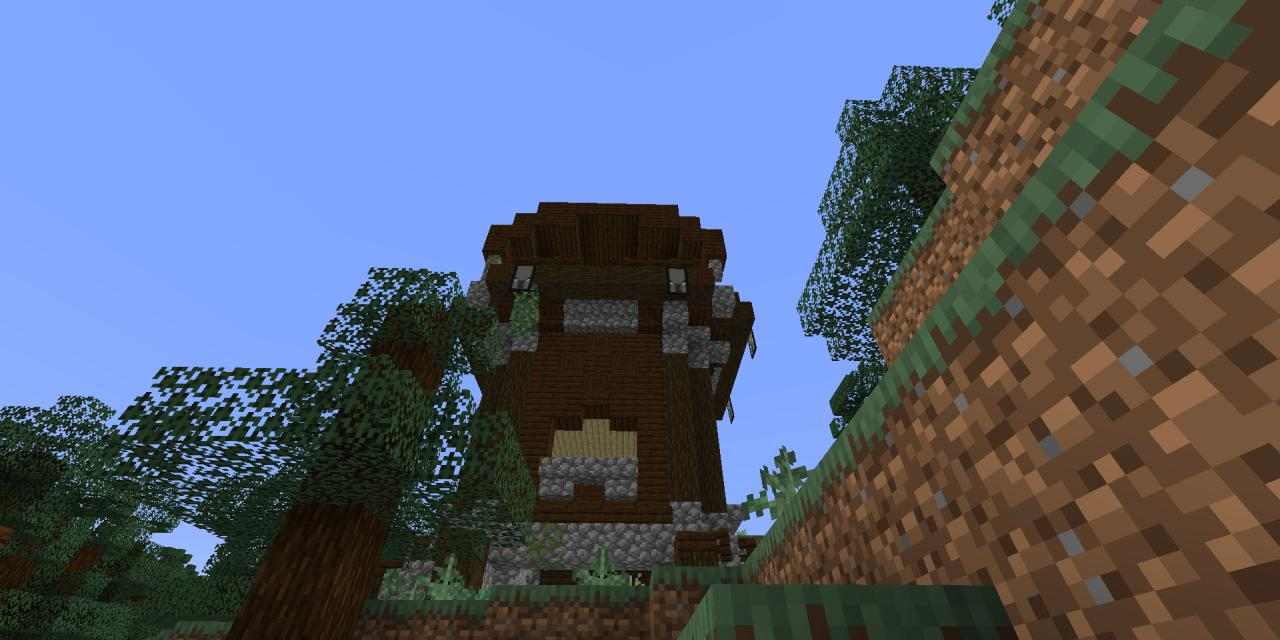pillager outpost: (420, 181, 767, 609)
